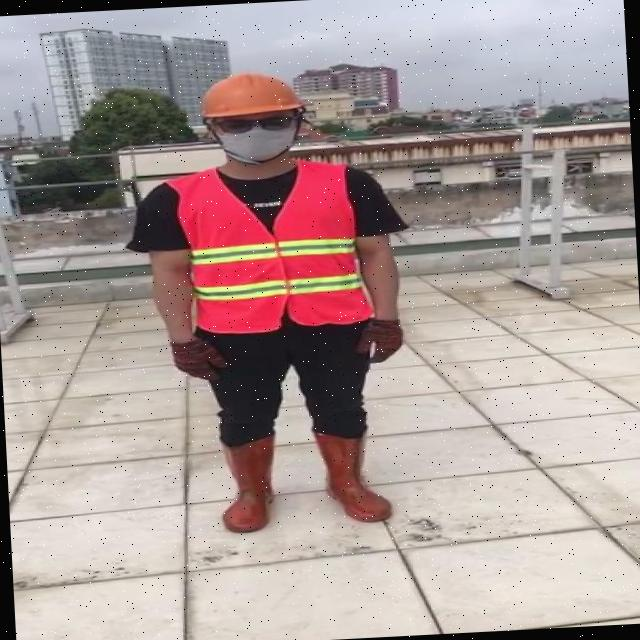boots: (313, 426, 391, 526), (218, 434, 280, 536)
